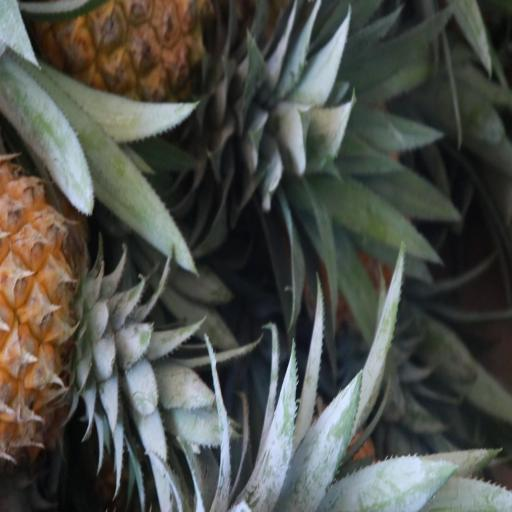Pineapple - v8 v1: (0, 164, 138, 438)
